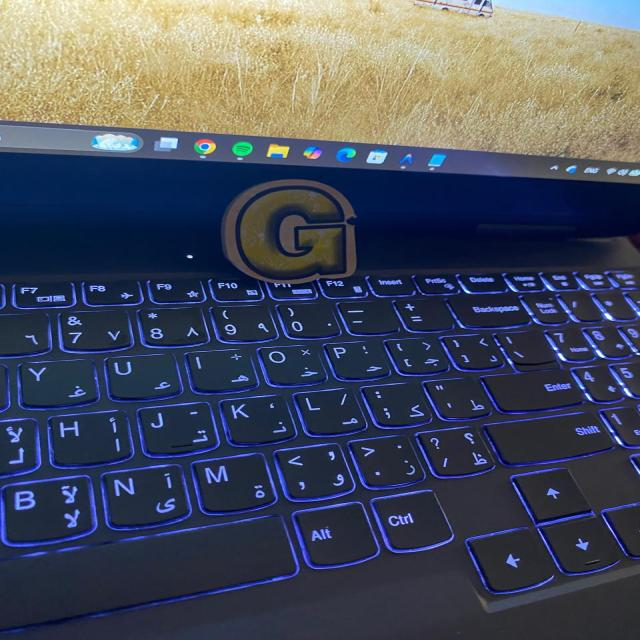G: (222, 179, 356, 283)
